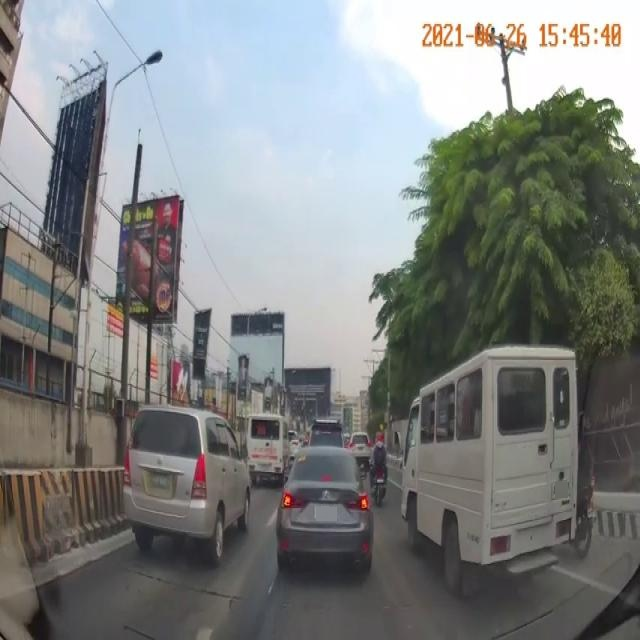car: (127, 398, 258, 553)
motorcycle: (371, 426, 388, 508)
